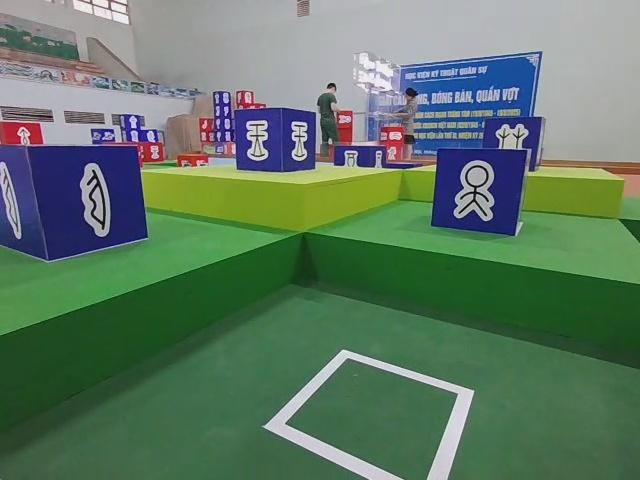R2 Real Blue: (1, 146, 147, 267), (433, 146, 530, 238), (235, 109, 317, 176), (481, 117, 542, 174), (333, 145, 388, 169)
